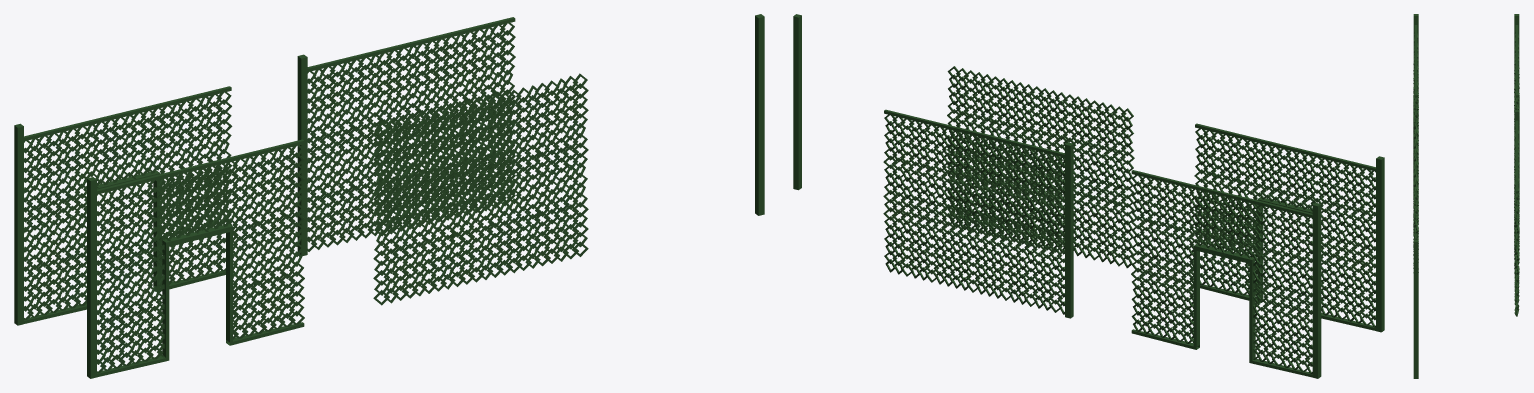
The model's file is igralishte fence pole.glb.
The picture shows the model from 3 angles, left to right: view 1: azimuth 30°, elevation 25°; view 2: azimuth 150°, elevation 25°; view 3: azimuth 270°, elevation 25°; orthographic projection. The views are drawn at different scales.
Parts seen in each view (by area): view 1: IgralishteFence, IgralishteDoor, Cube.140, Cube.048, Cube.093, Cube.139, Cube.050, Cube.075, Cube.067, Cube.092, Cube.090, Cube.066 (+64 smaller); view 2: IgralishteFence, IgralishteDoor, Cube.093, Cube.048, Cube.140, Cube.139, Cube.049, Cube.054, Cube.055, Cube.050, Cube.058, Cube.097 (+20 smaller); view 3: IgralishteFence, Cube.048, IgralishteDoor, Cube.139, Cube.093, Cube.092.
Part boxes in pixels (bbox=[...]): IgralishteFence: bbox=[297, 17, 515, 256]; IgralishteDoor: bbox=[14, 86, 232, 325]; Cube.140: bbox=[97, 223, 304, 377]; Cube.048: bbox=[755, 14, 764, 215]; Cube.093: bbox=[87, 177, 96, 378]; Cube.139: bbox=[97, 139, 304, 194]; Cube.050: bbox=[373, 131, 389, 305]; Cube.075: bbox=[497, 92, 512, 265]; Cube.067: bbox=[459, 101, 474, 274]; Cube.092: bbox=[572, 83, 588, 256]; Cube.090: bbox=[562, 85, 578, 259]; Cube.066: bbox=[449, 113, 465, 286]; IgralishteFence: bbox=[883, 109, 1073, 318]; IgralishteDoor: bbox=[1131, 170, 1321, 378]; Cube.093: bbox=[1376, 156, 1384, 332]; Cube.048: bbox=[793, 14, 801, 190]; Cube.140: bbox=[1200, 197, 1375, 330]; Cube.139: bbox=[1195, 123, 1375, 171]; Cube.049: bbox=[1121, 108, 1133, 259]; Cube.054: bbox=[1103, 112, 1118, 264]; Cube.055: bbox=[1096, 102, 1109, 253]; Cube.050: bbox=[1120, 116, 1134, 268]; Cube.058: bbox=[1087, 100, 1101, 251]; Cube.097: bbox=[1359, 169, 1373, 318]; IgralishteFence: bbox=[1514, 110, 1519, 316]; Cube.048: bbox=[1413, 239, 1418, 378]; IgralishteDoor: bbox=[1514, 14, 1519, 199]; Cube.139: bbox=[1414, 25, 1417, 97]; Cube.093: bbox=[1413, 14, 1418, 91]; Cube.092: bbox=[1413, 197, 1418, 272].
Bounding box in the file's own units: 42.8 × 12.05 × 8.45.
